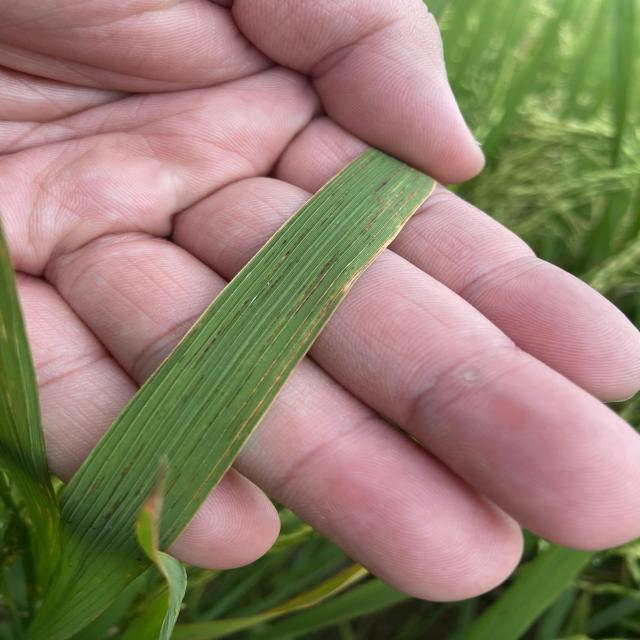Dom soc vi khuan: (259, 249, 340, 350), (195, 296, 252, 367), (260, 227, 310, 283), (364, 189, 406, 230), (371, 164, 409, 195)
